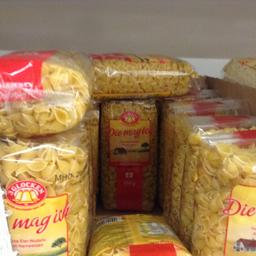pasta: (0, 135, 91, 255), (188, 126, 254, 255), (100, 98, 158, 212), (88, 207, 192, 255), (86, 51, 196, 96)
